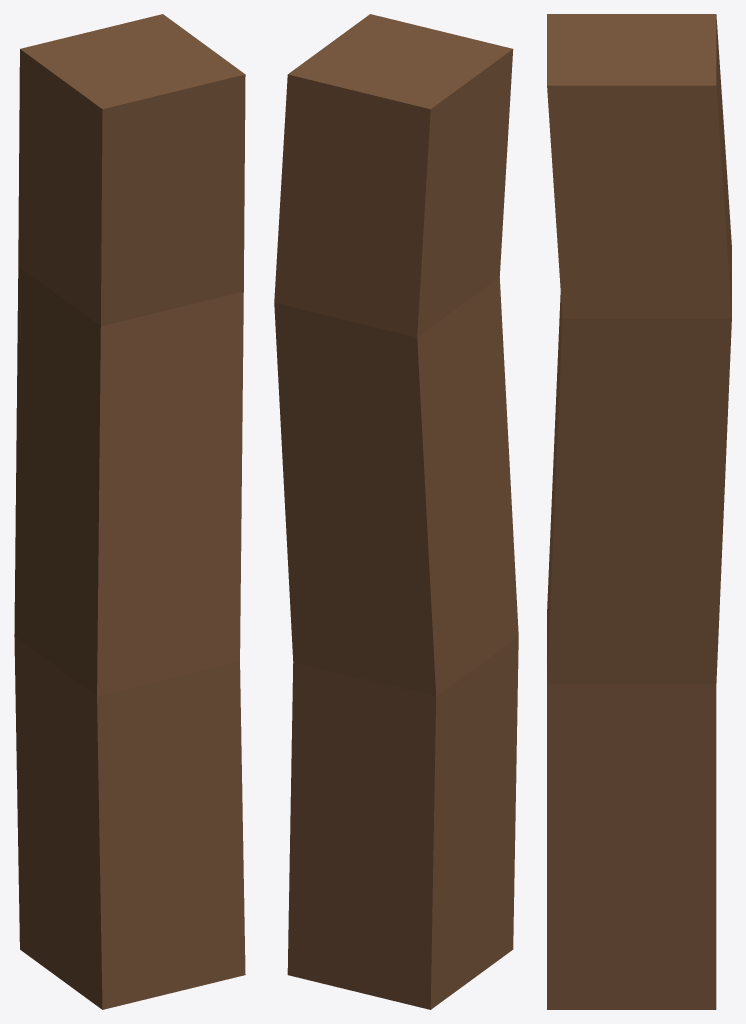
The model's file is Wood_Fence_Pillar.fbx.
The picture shows the model from 3 angles, left to right: view 1: azimuth 30°, elevation 25°; view 2: azimuth 150°, elevation 25°; view 3: azimuth 270°, elevation 25°; orthographic projection. The views are drawn at different scales.
Visible parts, largest first — view 1: Wood_Fence_Pillar; view 2: Wood_Fence_Pillar; view 3: Wood_Fence_Pillar.
Part boxes in pixels (x1,y1,x2,y2): Wood_Fence_Pillar: [14, 14, 245, 1009]; Wood_Fence_Pillar: [274, 14, 518, 1009]; Wood_Fence_Pillar: [547, 14, 731, 1009].
Bounding box in the file's own units: 44.61 × 249 × 45.11.
